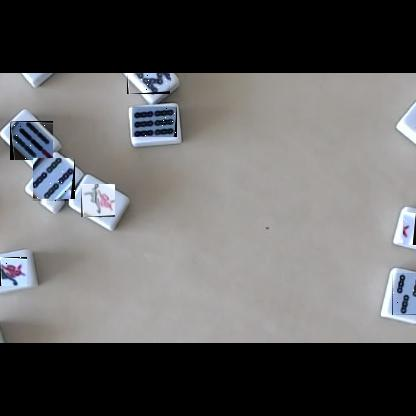1s: (81, 184, 115, 217), (0, 257, 27, 286), (403, 212, 416, 245)
3s: (392, 273, 416, 315)
4s: (33, 159, 75, 204)
6s: (132, 106, 177, 137)
7s: (10, 121, 53, 160)
8s: (127, 73, 170, 94)
